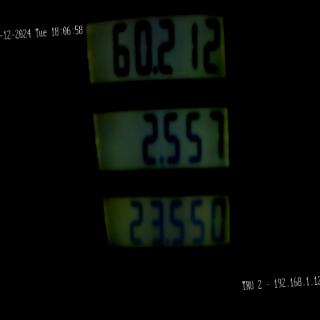screen: (80, 2, 244, 266)
